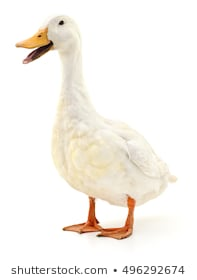duck: (11, 7, 184, 252)
